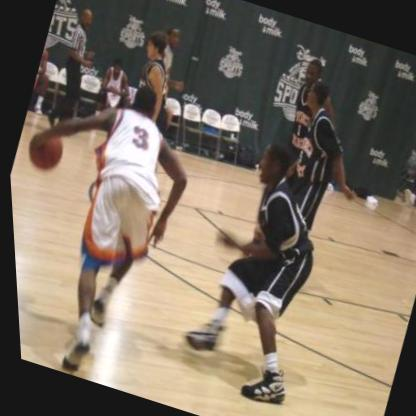basketball: (19, 124, 68, 176)
